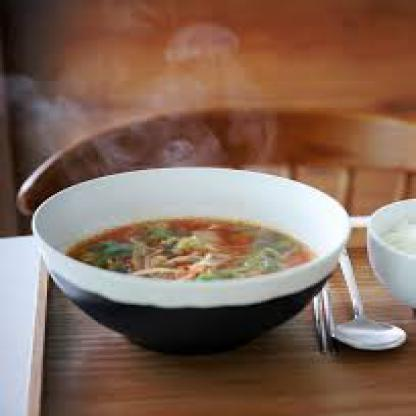bean sprout soup: (55, 209, 324, 298)
